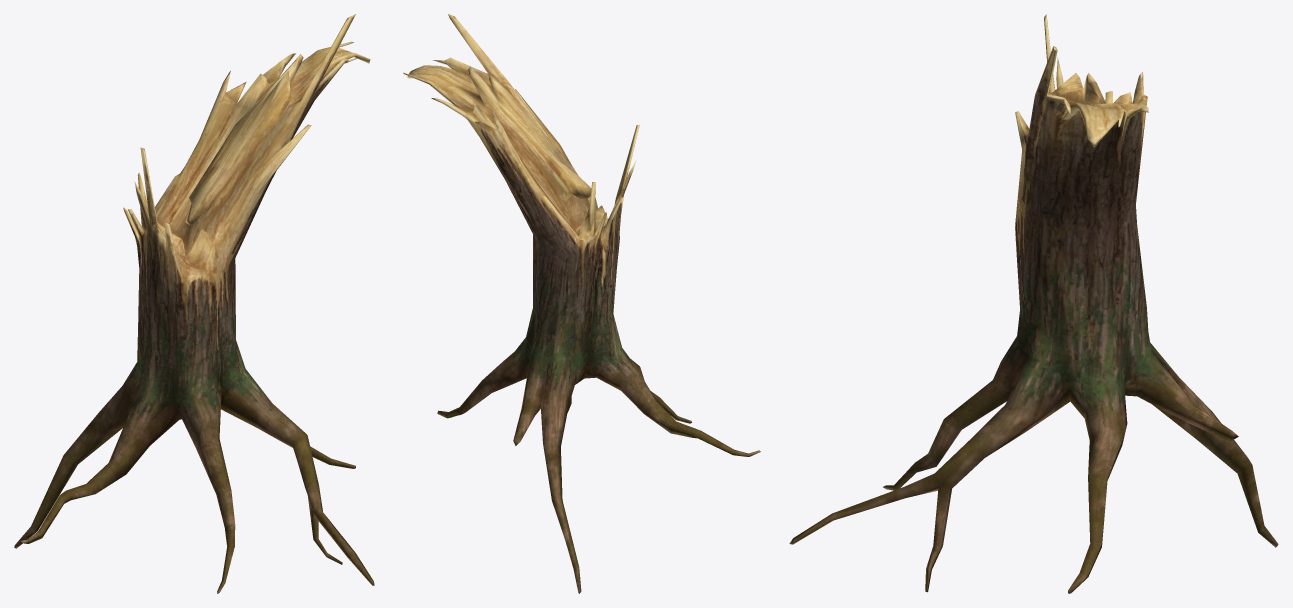
File: TreeBroken2.fbx
3 views of the same model, side by side, from view 1: azimuth 30°, elevation 25°; view 2: azimuth 150°, elevation 25°; view 3: azimuth 270°, elevation 25° (orthographic). The views are drawn at different scales.
Visible parts, largest first — view 1: SM_cmn_mount_BrokenTree_01b; view 2: SM_cmn_mount_BrokenTree_01b; view 3: SM_cmn_mount_BrokenTree_01b.
Boxes of the visible parts, box(x1,y1,x2,y2) form: SM_cmn_mount_BrokenTree_01b: box(14, 14, 374, 593); SM_cmn_mount_BrokenTree_01b: box(403, 14, 760, 593); SM_cmn_mount_BrokenTree_01b: box(789, 14, 1278, 593).
Bounding box in the file's own units: 374 × 512 × 355.
